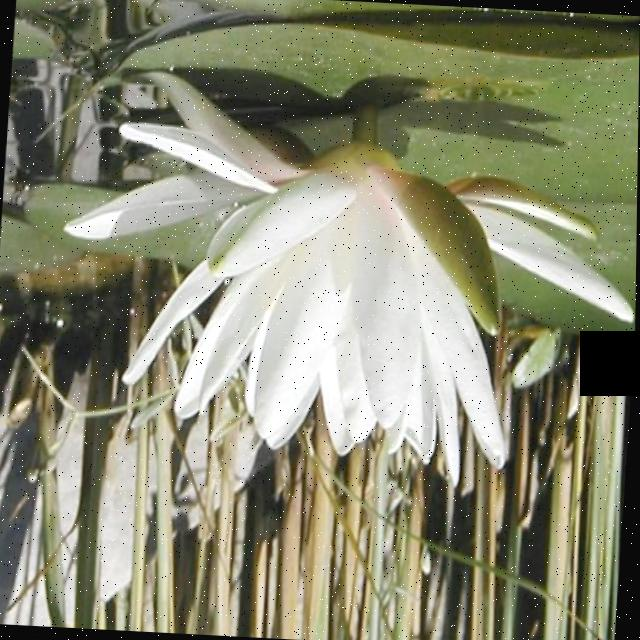water-lily: (69, 51, 543, 520)
